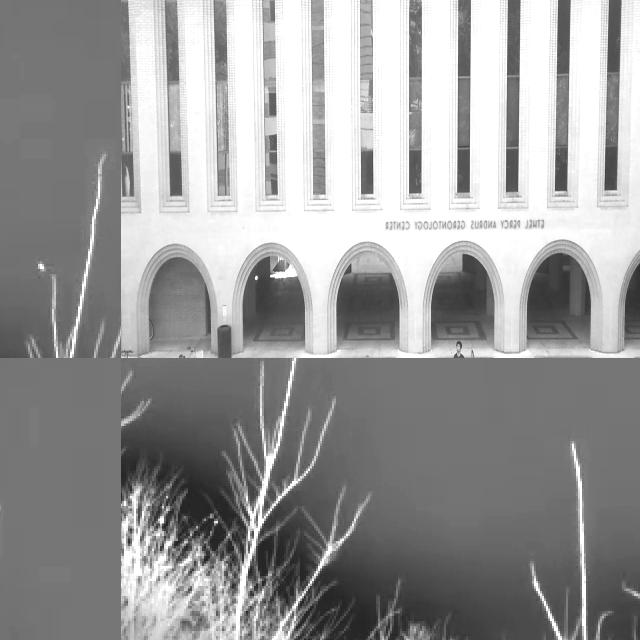0: (29, 255, 55, 283)
drone: (373, 132, 394, 154)
